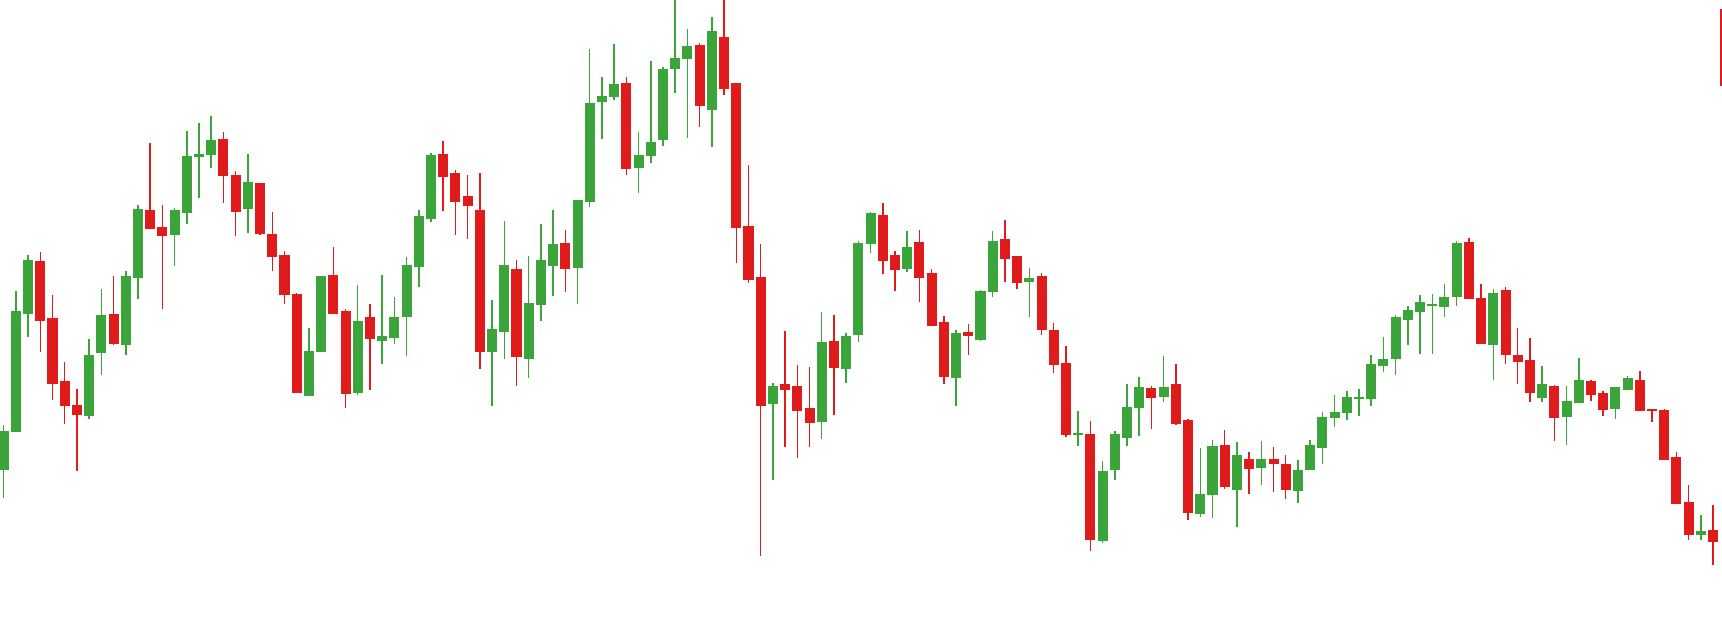buy: (360, 238, 501, 408)
sell: (901, 214, 1011, 334), (144, 112, 230, 237)
